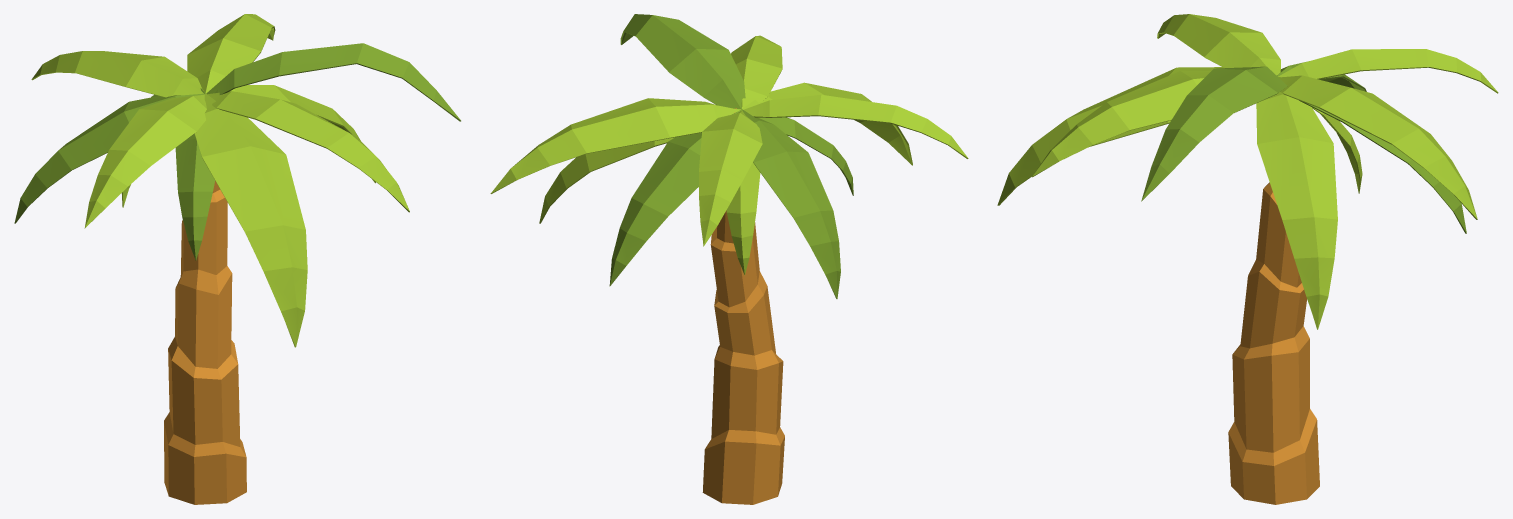
The model's file is Tree_06_Spring.fbx.
3 renders of one model, left to right at view 1: azimuth 30°, elevation 25°; view 2: azimuth 150°, elevation 25°; view 3: azimuth 270°, elevation 25°, orthographic. The views are drawn at different scales.
Parts seen in each view (by area): view 1: Tree_06_p2_Spring, Tree_06_p1_Spring; view 2: Tree_06_p2_Spring, Tree_06_p1_Spring; view 3: Tree_06_p2_Spring, Tree_06_p1_Spring.
Part boxes in pixels (bbox=[...]): Tree_06_p2_Spring: bbox=[14, 14, 460, 347]; Tree_06_p1_Spring: bbox=[164, 90, 246, 504]; Tree_06_p2_Spring: bbox=[490, 14, 968, 298]; Tree_06_p1_Spring: bbox=[702, 108, 784, 504]; Tree_06_p2_Spring: bbox=[997, 14, 1498, 329]; Tree_06_p1_Spring: bbox=[1228, 182, 1319, 504].
Bounding box in the file's own units: 312 × 353 × 353.
